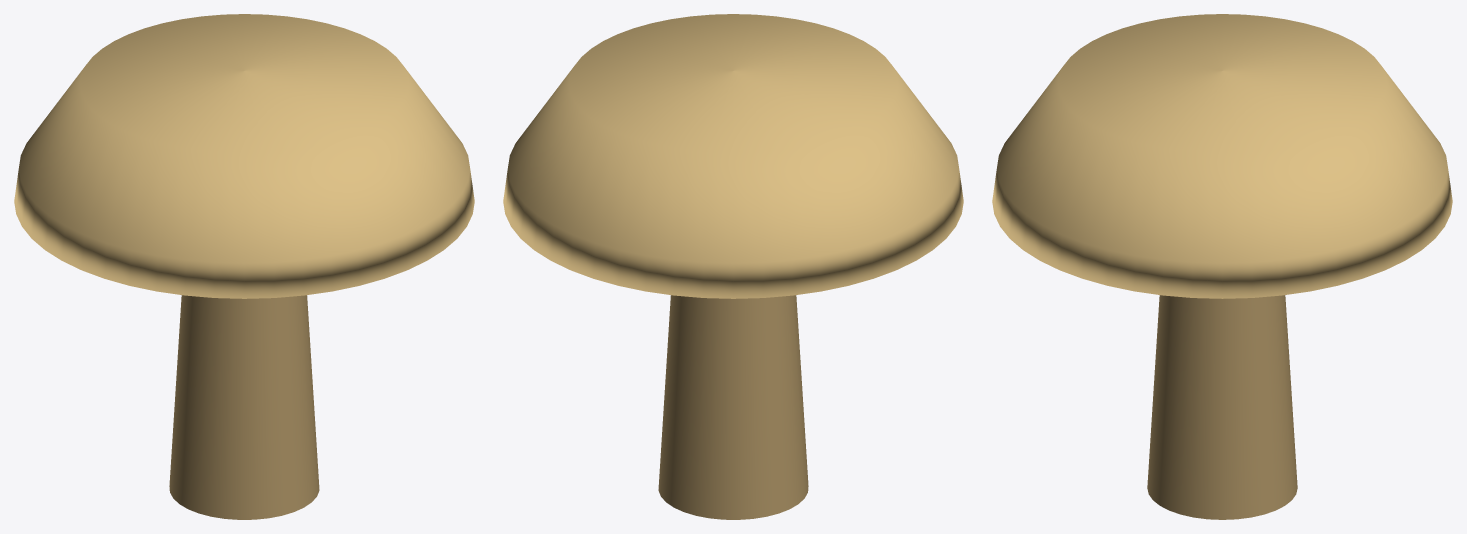
File: lamp-16-1.glb
3 renders of one model, left to right at view 1: azimuth 30°, elevation 25°; view 2: azimuth 150°, elevation 25°; view 3: azimuth 270°, elevation 25°, orthographic.
Visible parts, largest first — view 1: part (×2); view 2: part (×2); view 3: part (×2).
Part boxes in pixels (box(x1,y1,x2,y2)): part (×2): box(14, 14, 474, 519); part (×2): box(503, 14, 963, 519); part (×2): box(992, 14, 1452, 519).
Size of the model in its own units: 1 by 1 by 1.
